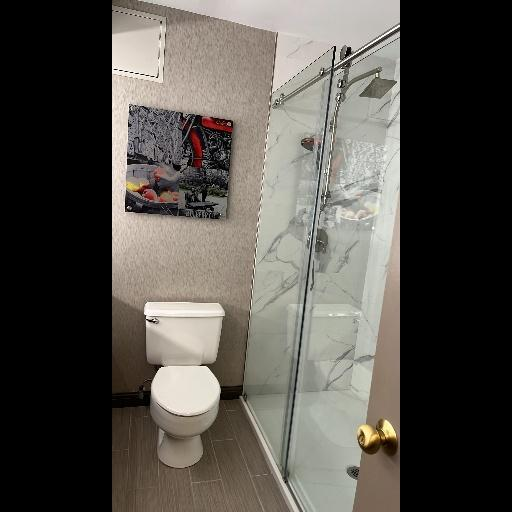clean shower: (243, 23, 400, 511)
clean_toilet: (141, 300, 231, 476)
